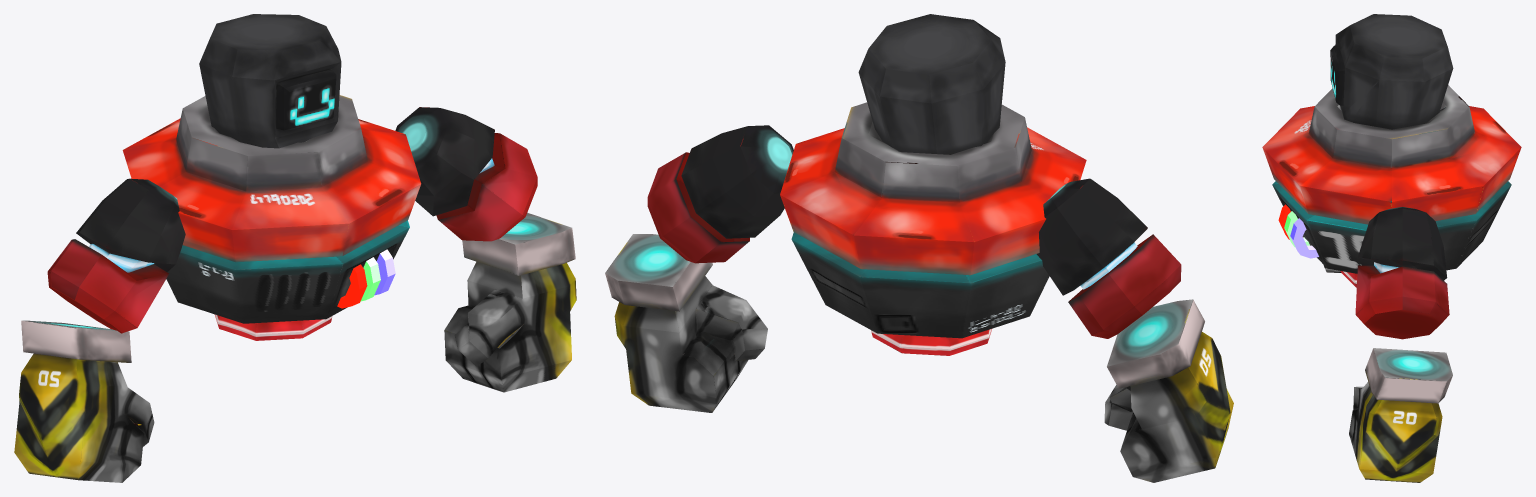
File: robotbossthreejs.glb
3 renders of one model, left to right at view 1: azimuth 30°, elevation 25°; view 2: azimuth 150°, elevation 25°; view 3: azimuth 270°, elevation 25°, orthographic. The views are drawn at different scales.
Parts seen in each view (by area): view 1: RobotBossMain, RobotLowerArmR, RobotLowerArmL, RobotHead, RobotUpperArmR, RobotUpperArmL, Cable1, Cable3; view 2: RobotBossMain, RobotLowerArmL, RobotLowerArmR, RobotHead, RobotUpperArmR, RobotUpperArmL; view 3: RobotBossMain, RobotHead, RobotLowerArmL, RobotUpperArmL, Cable3.
Part boxes in pixels (x1=…): RobotBossMain: x1=122, y1=95, x2=421, y2=340; RobotLowerArmR: x1=14, y1=320, x2=154, y2=482; RobotLowerArmL: x1=444, y1=213, x2=576, y2=392; RobotHead: x1=199, y1=14, x2=341, y2=148; RobotUpperArmR: x1=47, y1=178, x2=185, y2=333; RobotUpperArmL: x1=395, y1=107, x2=537, y2=241; Cable1: x1=337, y1=264, x2=367, y2=308; Cable3: x1=374, y1=249, x2=395, y2=295; RobotBossMain: x1=780, y1=102, x2=1086, y2=355; RobotLowerArmL: x1=605, y1=234, x2=767, y2=412; RobotLowerArmR: x1=1104, y1=299, x2=1233, y2=482; RobotHead: x1=858, y1=14, x2=1005, y2=154; RobotUpperArmR: x1=1036, y1=178, x2=1181, y2=338; RobotUpperArmL: x1=647, y1=125, x2=793, y2=263; RobotBossMain: x1=1262, y1=85, x2=1521, y2=287; RobotHead: x1=1330, y1=14, x2=1453, y2=129; RobotLowerArmL: x1=1349, y1=348, x2=1452, y2=482; RobotUpperArmL: x1=1355, y1=207, x2=1449, y2=339; Cable3: x1=1290, y1=218, x2=1318, y2=258.
Bounding box in the file's own units: 11.81 × 8.26 × 5.62.
7 materials, 4 textured.
